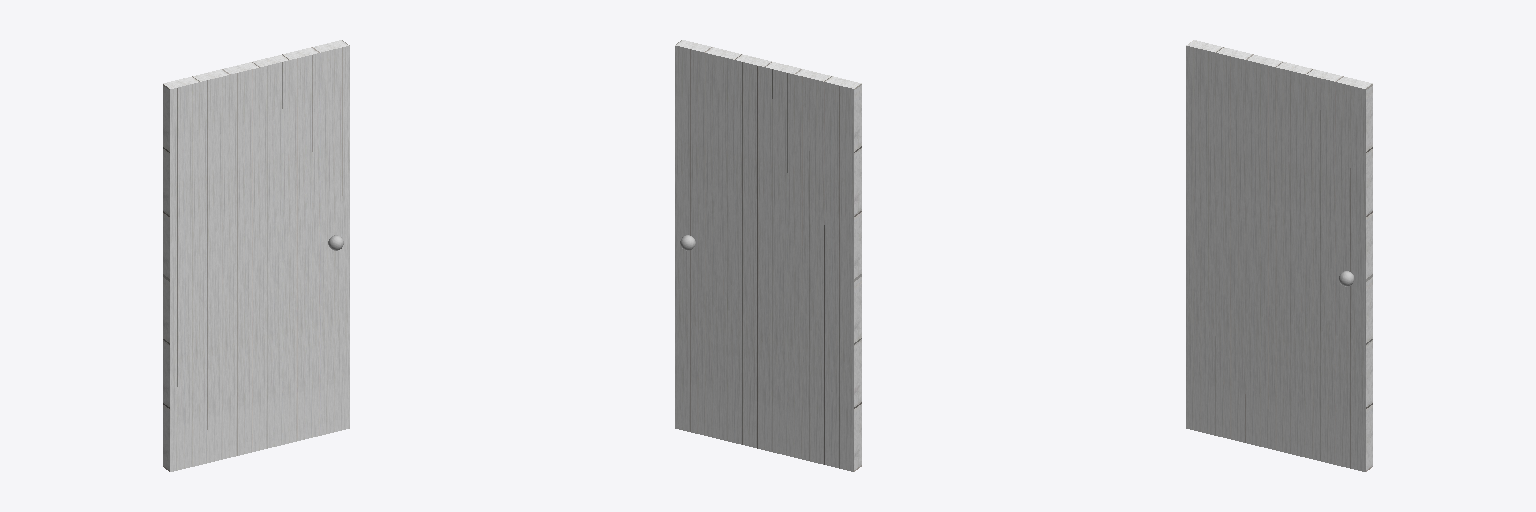
3 views of the same model, side by side, from view 1: azimuth 30°, elevation 25°; view 2: azimuth 150°, elevation 25°; view 3: azimuth 330°, elevation 25° (orthographic).
Parts seen in each view (by area): view 1: Cube_Cube.001; view 2: Cube_Cube.001; view 3: Cube_Cube.001.
Part boxes in pixels (left/top/right/bottom): Cube_Cube.001: left=163, top=40, right=349, bottom=471; Cube_Cube.001: left=675, top=40, right=861, bottom=471; Cube_Cube.001: left=1186, top=40, right=1372, bottom=471.
Size of the model in its own units: 3.46 by 7.06 by 0.71.
Materials: 2 (1 with a texture image).